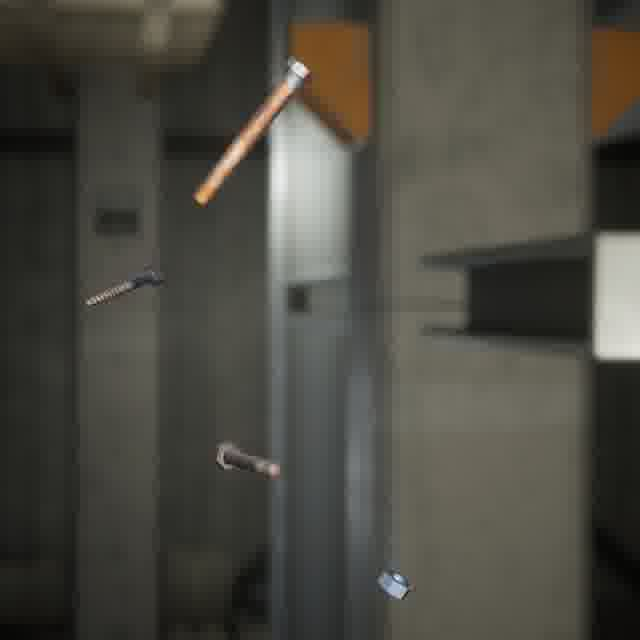bolt: (189, 52, 320, 210), (80, 258, 168, 311), (209, 437, 287, 481)
nut: (373, 564, 416, 603)
